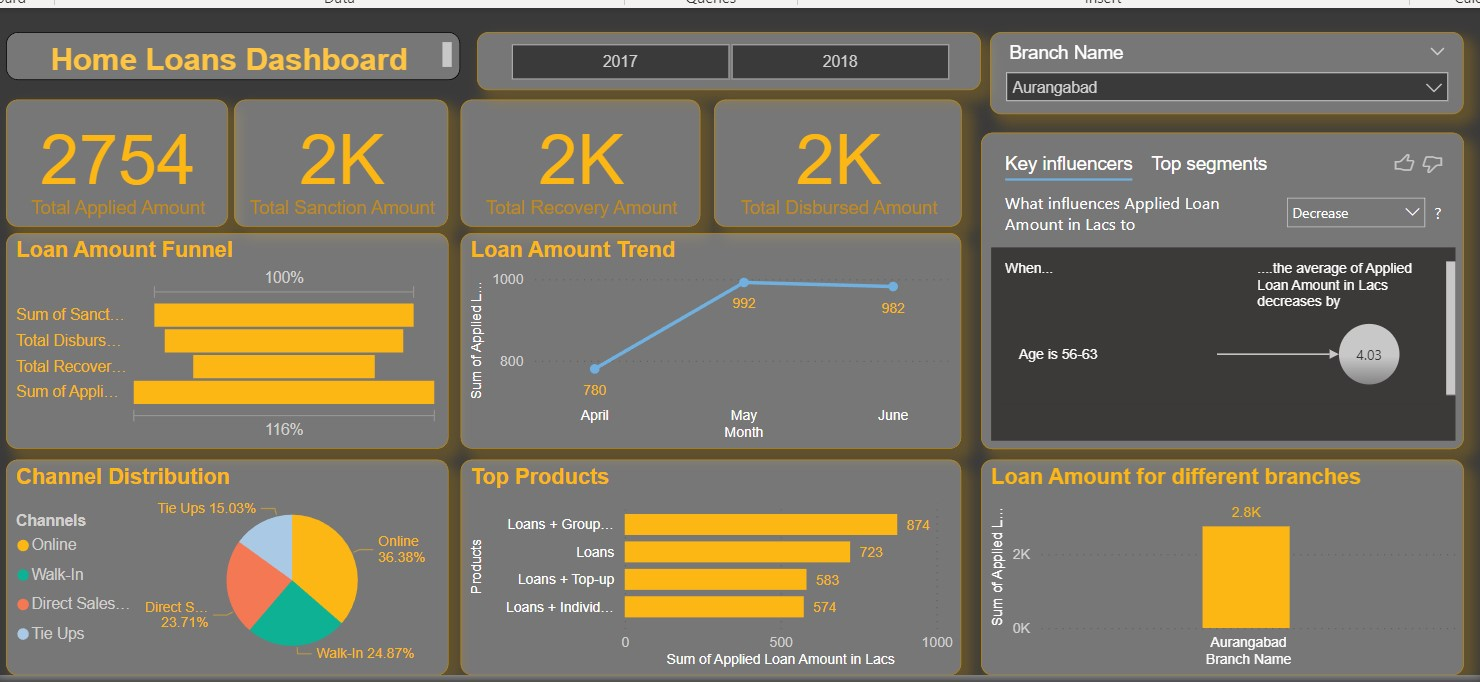

The dashboard page shown, as its layout file describes it:
{"tool":"powerbi","page":{"name":"Page 1","canvas":[1280,573],"ordinal":0},"visuals":[{"type":"textbox","box":[10.3,20.6,390.2,41.2],"z":0},{"type":"card","fields":{"Values":["Customer.Total Applied Amount"]},"box":[10.3,78.6,190.6,109.5],"z":1},{"type":"card","fields":{"Values":["Sanction Data.Total Sanction Amount"]},"box":[206,78.6,184.1,109.5],"z":2},{"type":"card","fields":{"Values":["Recovery Data.Total Recovery Amount"]},"box":[400.5,78.6,206,109.5],"z":3},{"type":"card","fields":{"Values":["Sanction Data.Total Disbursed Amount"]},"box":[618.1,78.6,212.5,109.5],"z":4},{"type":"funnel","title":"Loan Amount Funnel","fields":{"Y":["Sum(Sanction Data.Sanction Amt in Lacs)","Sanction Data.Total Disbursed Amount","Recovery Data.Total Recovery Amount","Sum(Customer.Applied Loan Amount in Lacs)"]},"box":[10.3,193.2,379.9,185.4],"z":5},{"type":"lineChart","title":"Loan Amount Trend","fields":{"Category":["Recovery Data.Month Year.Variation.Date Hierarchy.Year","Recovery Data.Month Year.Variation.Date Hierarchy.Quarter","Recovery Data.Month Year.Variation.Date Hierarchy.Month","Recovery Data.Month Year.Variation.Date Hierarchy.Day"],"Y":["Sum(Customer.Applied Loan Amount in Lacs)"]},"box":[400.5,193.2,430.1,185.4],"z":6},{"type":"barChart","title":"Top Products","fields":{"Category":["Product.Products"],"Y":["Sum(Customer.Applied Loan Amount in Lacs)"]},"box":[400.5,387.6,430.1,185.4],"z":7},{"type":"pieChart","title":"Channel Distribution","fields":{"Category":["Channel.Channels"],"Y":["Sum(Customer.Applied Loan Amount in Lacs)"]},"box":[10.3,387.6,379.9,185.4],"z":8},{"type":"keyDriversVisual","fields":{"Target":["Customer.Applied Loan Amount in Lacs"],"ExplainBy":["Customer.Gender","Customer.Occupation","Customer.Salary","Customer.Age","Product.Products","Branch.Branch Name"]},"box":[847.3,106.9,414.6,271.7],"z":9},{"type":"clusteredColumnChart","title":"Loan Amount for different branches","fields":{"Category":["Branch.Branch Name"],"Y":["Sum(Customer.Applied Loan Amount in Lacs)"]},"box":[847.3,387.6,414.6,185.4],"z":10},{"type":"slicer","fields":{"Values":["Customer.Fin Year"]},"box":[414.6,20.6,432.7,50.2],"z":11},{"type":"slicer","fields":{"Values":["Branch.Branch Name"]},"box":[855.1,20.6,406.9,70.8],"z":12}]}

Visuals, with their boxes in screenshot pixels (x1, y1, x2, y2):
textbox: (1, 5, 462, 54)
card - Customer.Total Applied Amount: (1, 74, 226, 203)
card - Sanction Data.Total Sanction Amount: (232, 74, 450, 203)
card - Recovery Data.Total Recovery Amount: (462, 74, 705, 203)
card - Sanction Data.Total Disbursed Amount: (719, 74, 970, 203)
"Loan Amount Funnel" funnel: (1, 209, 450, 428)
"Loan Amount Trend" lineChart: (462, 209, 970, 428)
"Top Products" barChart: (462, 439, 970, 658)
"Channel Distribution" pieChart: (1, 439, 450, 658)
keyDriversVisual - Customer.Applied Loan Amount in Lacs x Customer.Gender: (990, 107, 1479, 428)
"Loan Amount for different branches" clusteredColumnChart: (990, 439, 1479, 658)
slicer - Customer.Fin Year: (479, 5, 990, 64)
slicer - Branch.Branch Name: (999, 5, 1479, 89)
